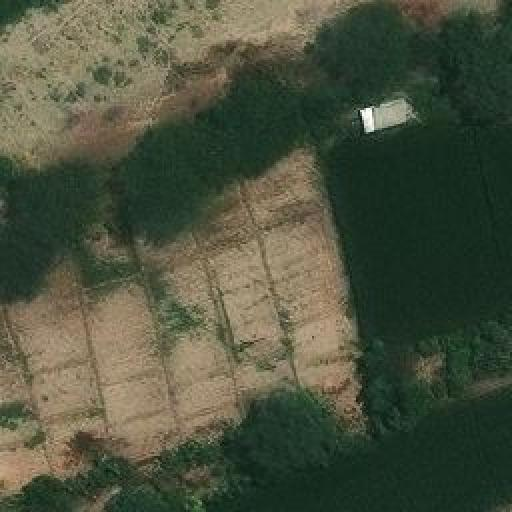manzanas: (357, 92, 419, 136)
